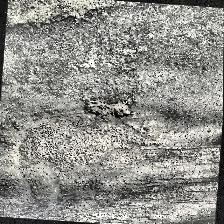pothole: (83, 94, 133, 122)
